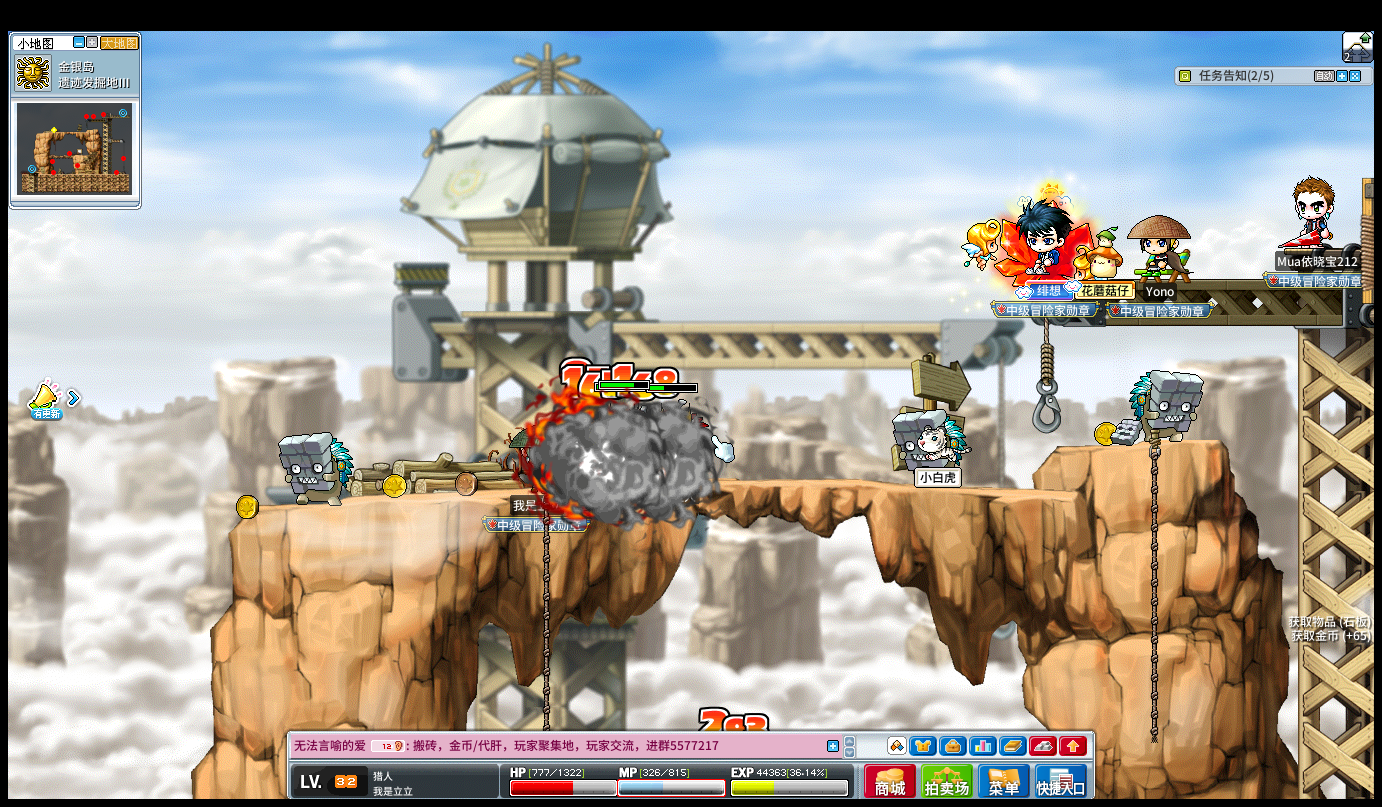floor: (705, 477, 1088, 496), (1061, 435, 1225, 451)
monster: (892, 408, 967, 489), (277, 431, 354, 509), (1130, 368, 1203, 443)
rope: (1145, 425, 1161, 748), (539, 508, 551, 679)
